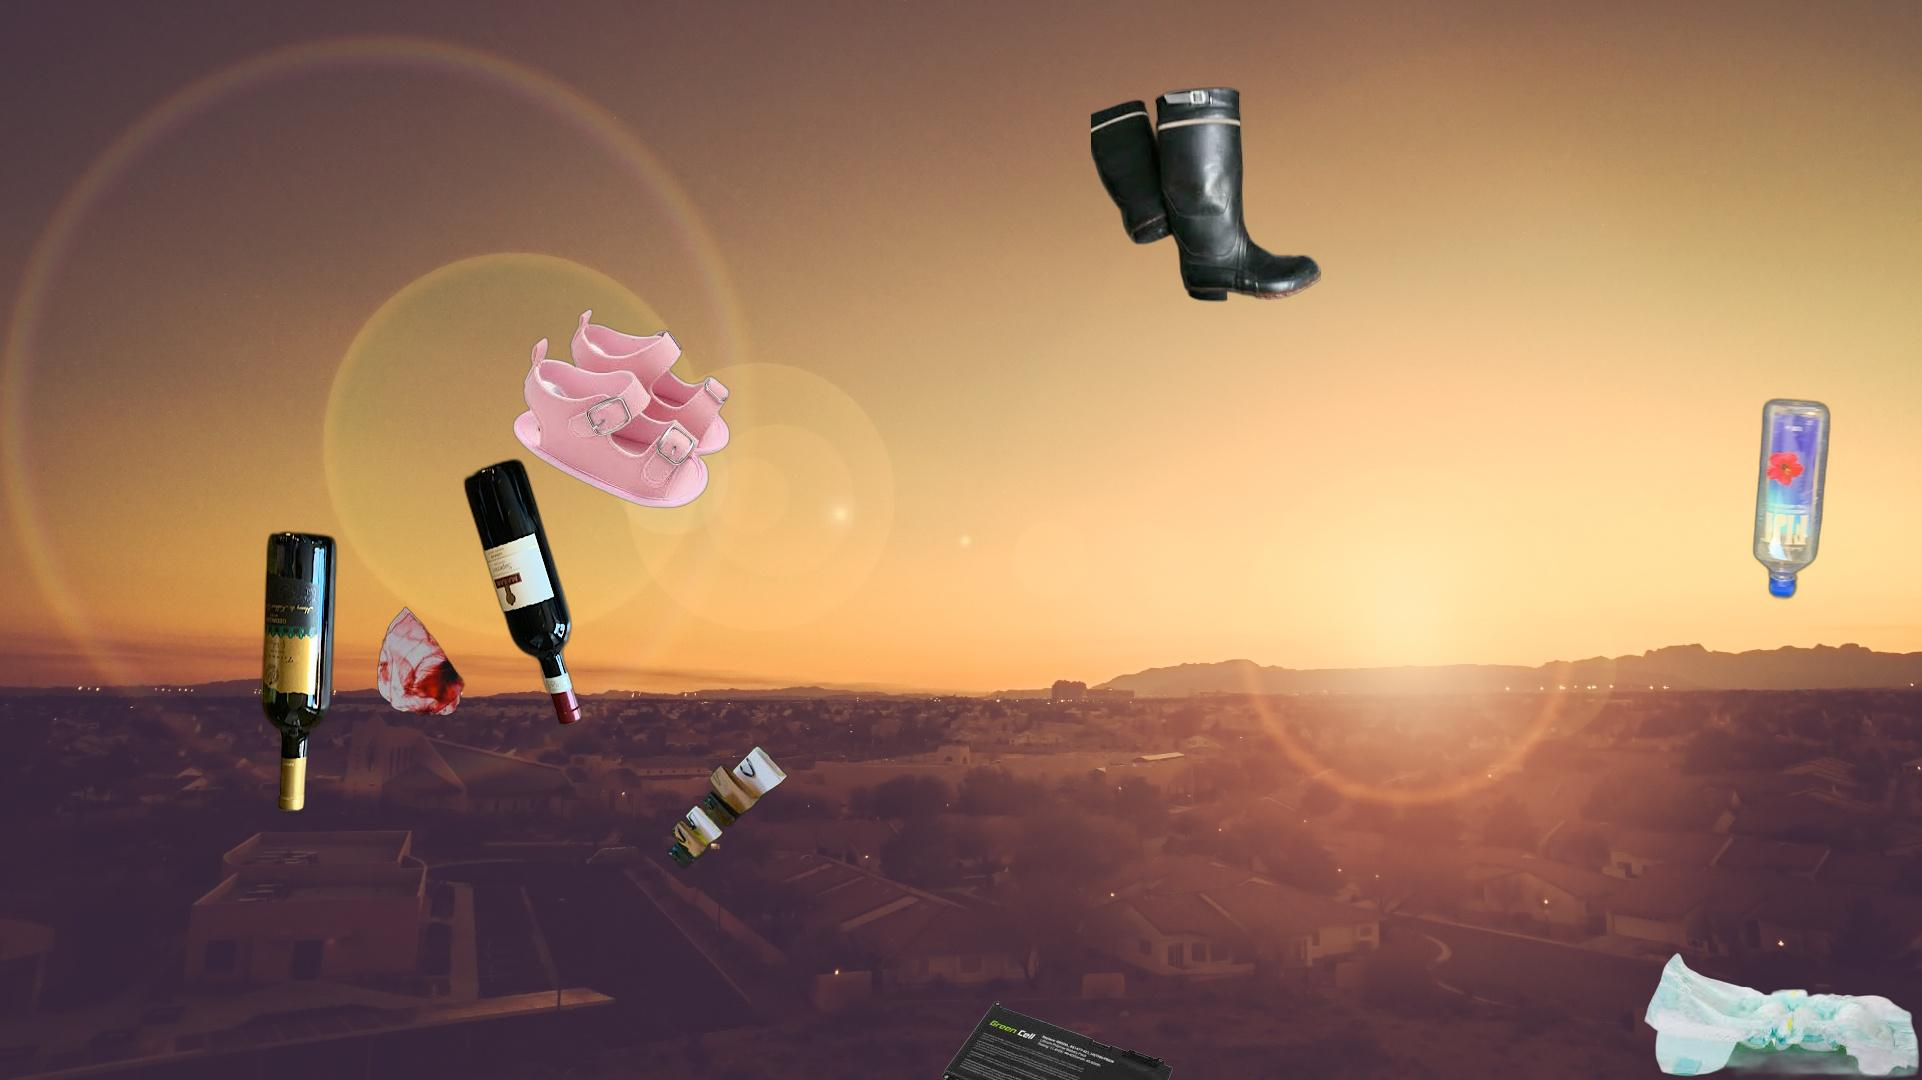battery: (939, 998, 1176, 1080)
glass: (252, 454, 587, 819)
paper-bag: (558, 745, 789, 877)
plastic-bag: (378, 603, 467, 720)
plastic-bottles: (1750, 393, 1834, 605)
shoes: (1090, 84, 1321, 304), (510, 306, 733, 511)
trash: (1641, 951, 1922, 1080)
